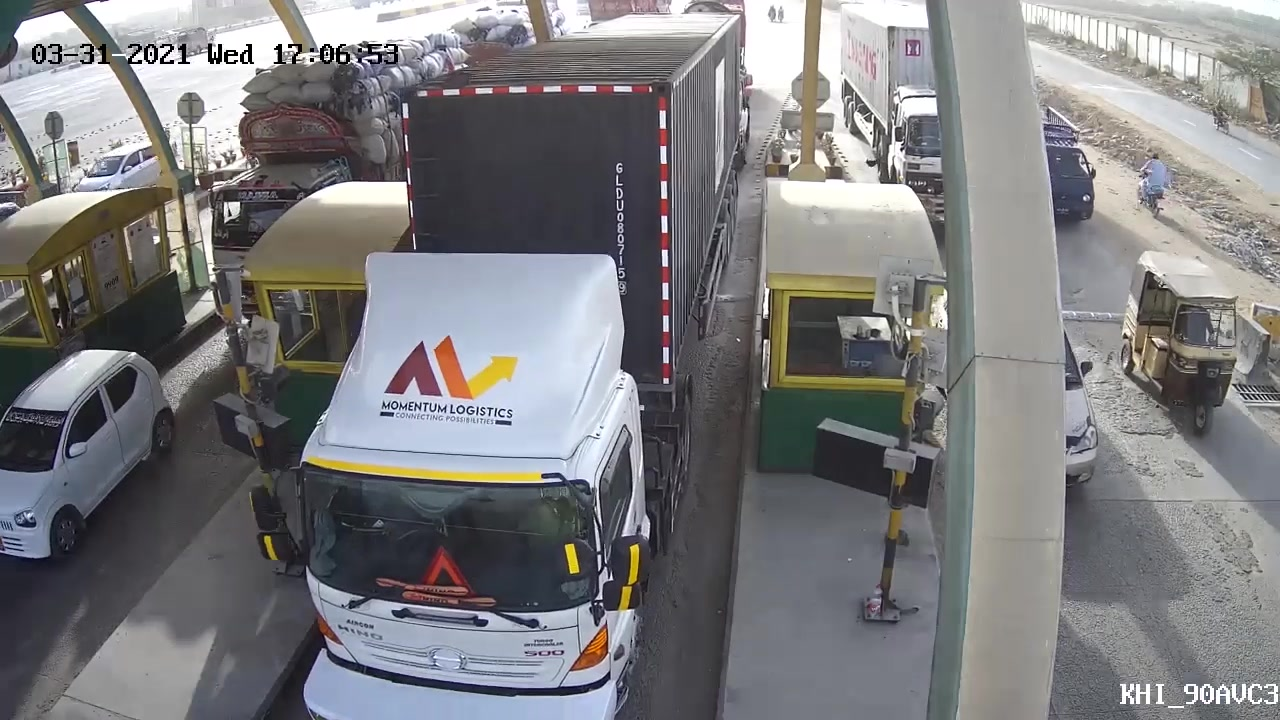F6: (294, 21, 739, 720)
